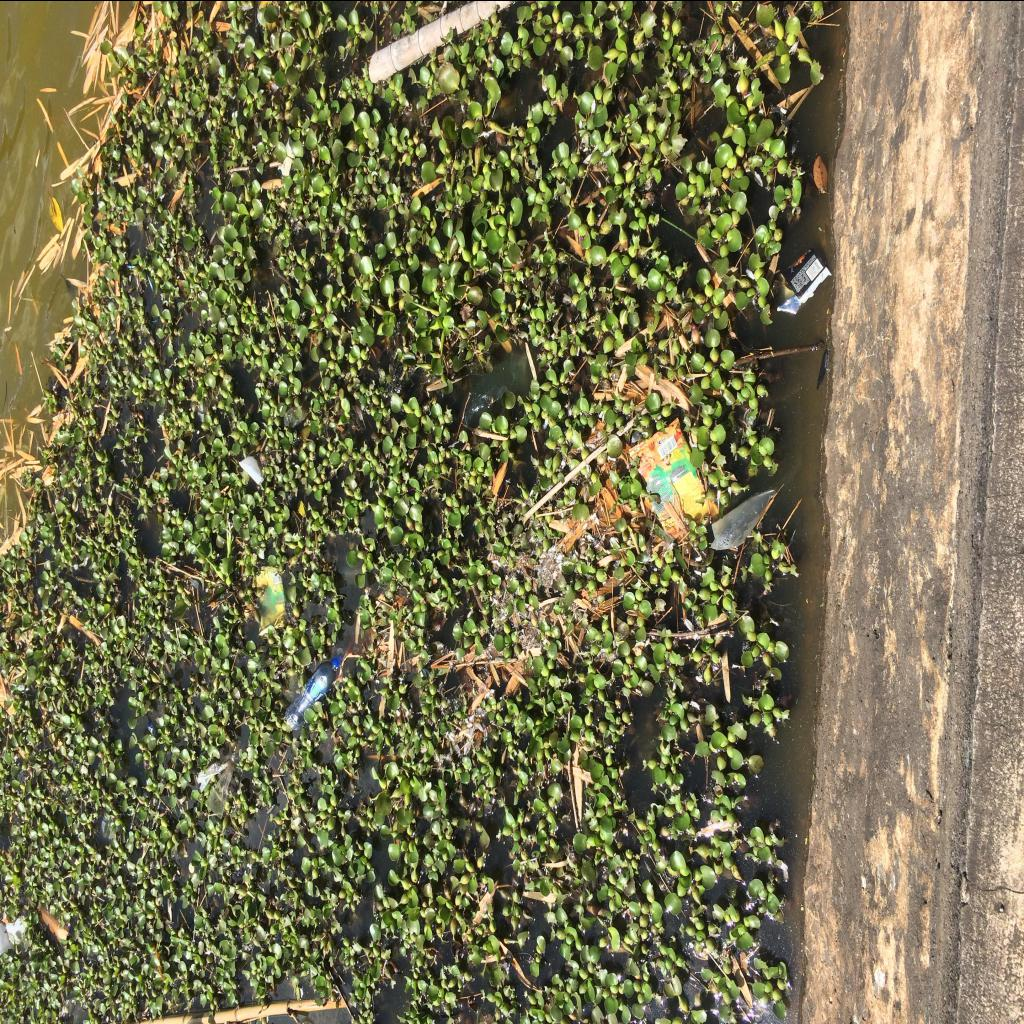Clear plastic bottle: (286, 654, 344, 730)
Other plastic: (628, 417, 720, 539), (776, 247, 832, 313), (256, 565, 286, 639)
Plastic bottle cap: (333, 654, 343, 666)
Plastic film: (710, 488, 779, 548), (464, 376, 508, 426), (198, 757, 234, 818)
Unlabeled litter: (238, 454, 264, 484), (6, 916, 28, 944), (0, 921, 14, 954), (146, 720, 156, 734)
